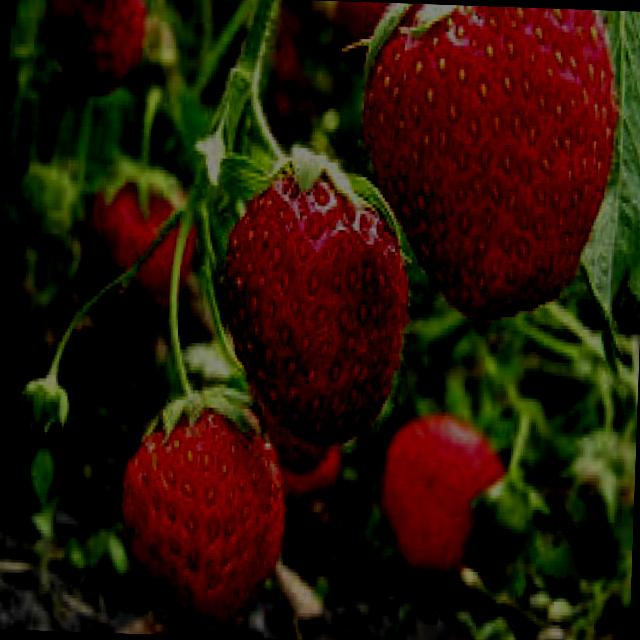Strawberry: (349, 1, 625, 323), (220, 152, 414, 448), (115, 380, 292, 629), (378, 406, 509, 580), (78, 166, 200, 340), (44, 0, 148, 94)
